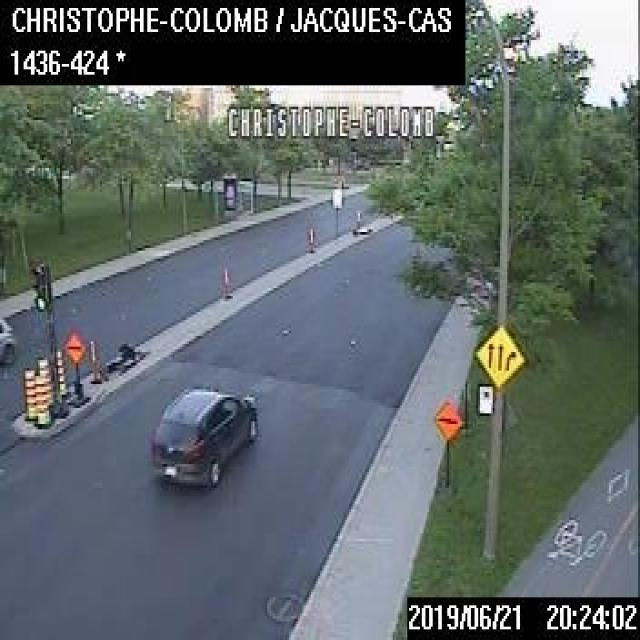construction: (433, 398, 462, 491), (63, 329, 88, 405), (37, 357, 54, 413), (34, 370, 50, 426), (23, 364, 36, 420), (55, 347, 68, 396)
vehicle: (149, 384, 258, 485), (0, 312, 16, 362)
